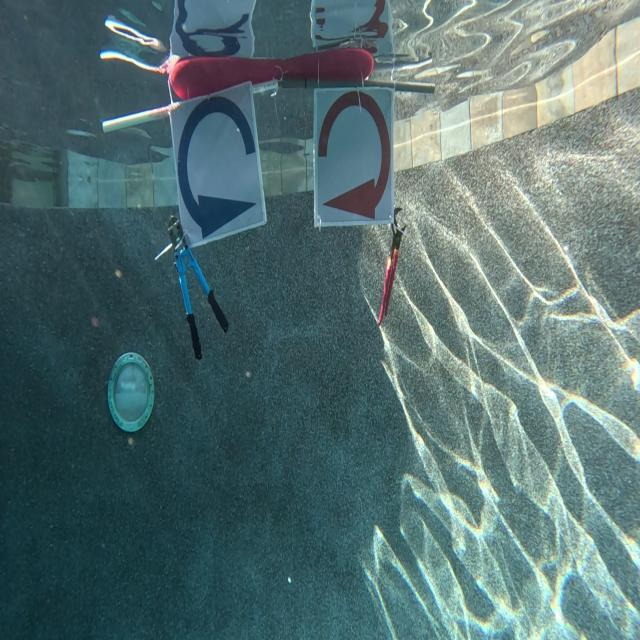blue_side: (174, 79, 261, 239)
red_side: (312, 91, 393, 226)
